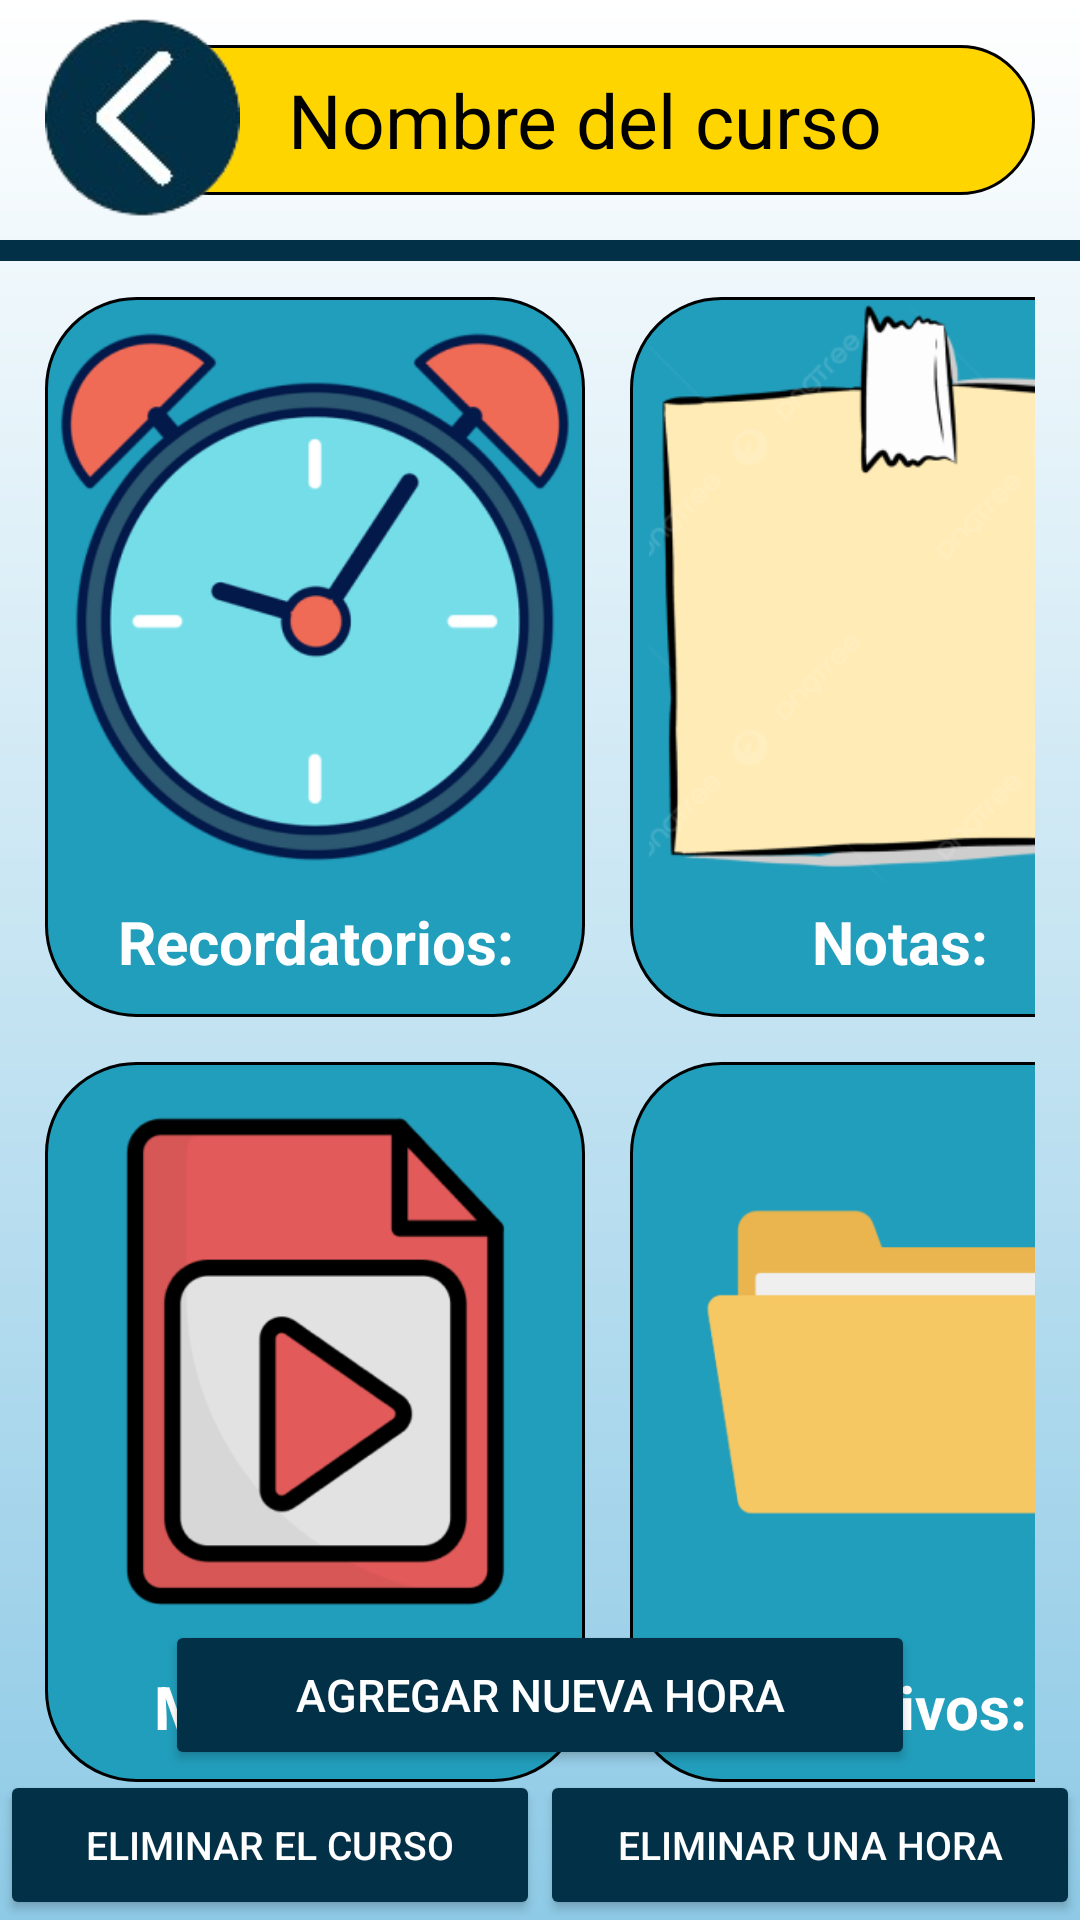

Icon click points for this 1080px×1920px phone screenshot, format (x=x, y=y):
back: (x=120, y=120)
